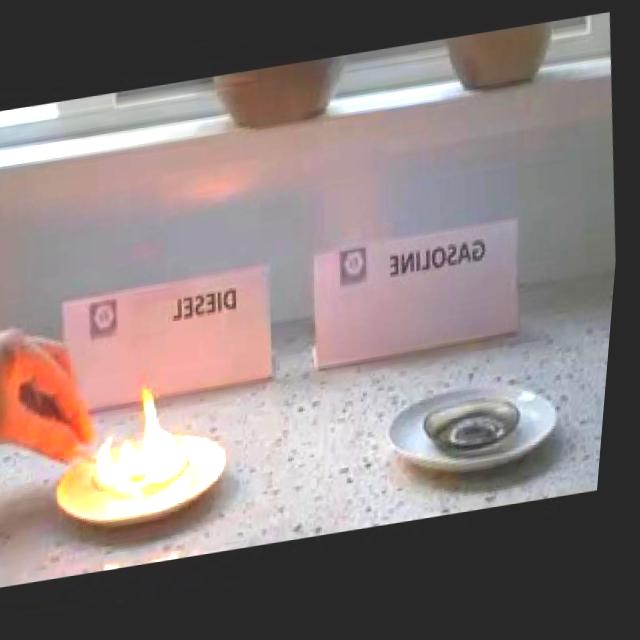Fire: (92, 372, 201, 503)
